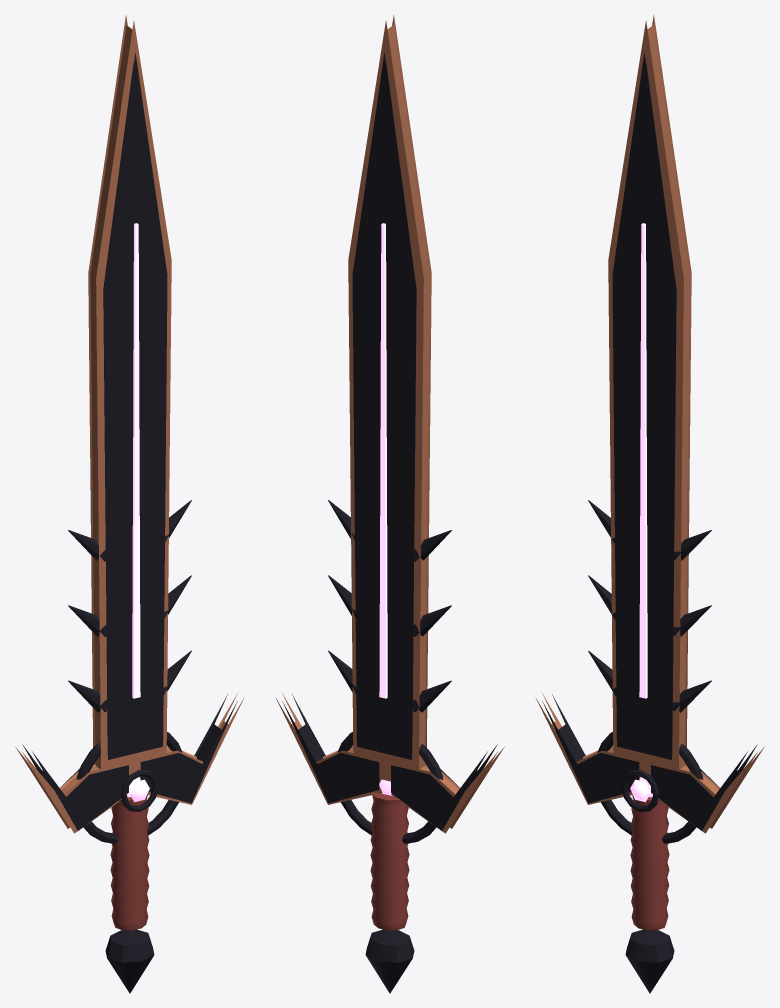
The model's file is boss_obsidian_oath_main_weapon.glb.
3 views of the same model, side by side, from view 1: azimuth 30°, elevation 25°; view 2: azimuth 150°, elevation 25°; view 3: azimuth 330°, elevation 25° (orthographic).
Parts seen in each view (by area): view 1: boss_obsidian_oath_main_weapon; view 2: boss_obsidian_oath_main_weapon; view 3: boss_obsidian_oath_main_weapon.
Boxes of the visible parts, bbox=[...] form: boss_obsidian_oath_main_weapon: bbox=[15, 15, 244, 993]; boss_obsidian_oath_main_weapon: bbox=[275, 15, 504, 993]; boss_obsidian_oath_main_weapon: bbox=[535, 15, 764, 993].
Bounding box in the file's own units: 0.4372 × 1.82 × 0.0833.
